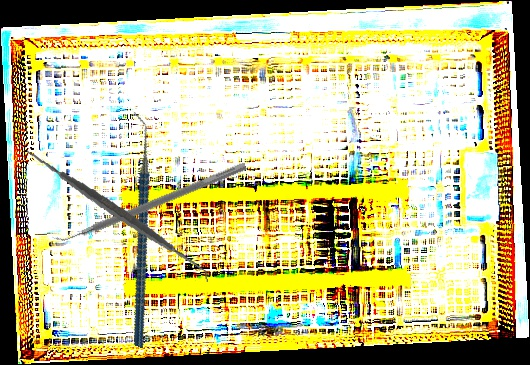Chopper: (53, 110, 221, 349)
Spatula Surgical: (26, 124, 208, 300), (49, 153, 248, 251)
